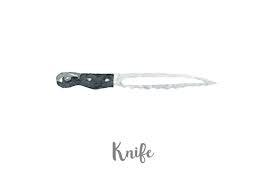Knife: (55, 71, 216, 89)
